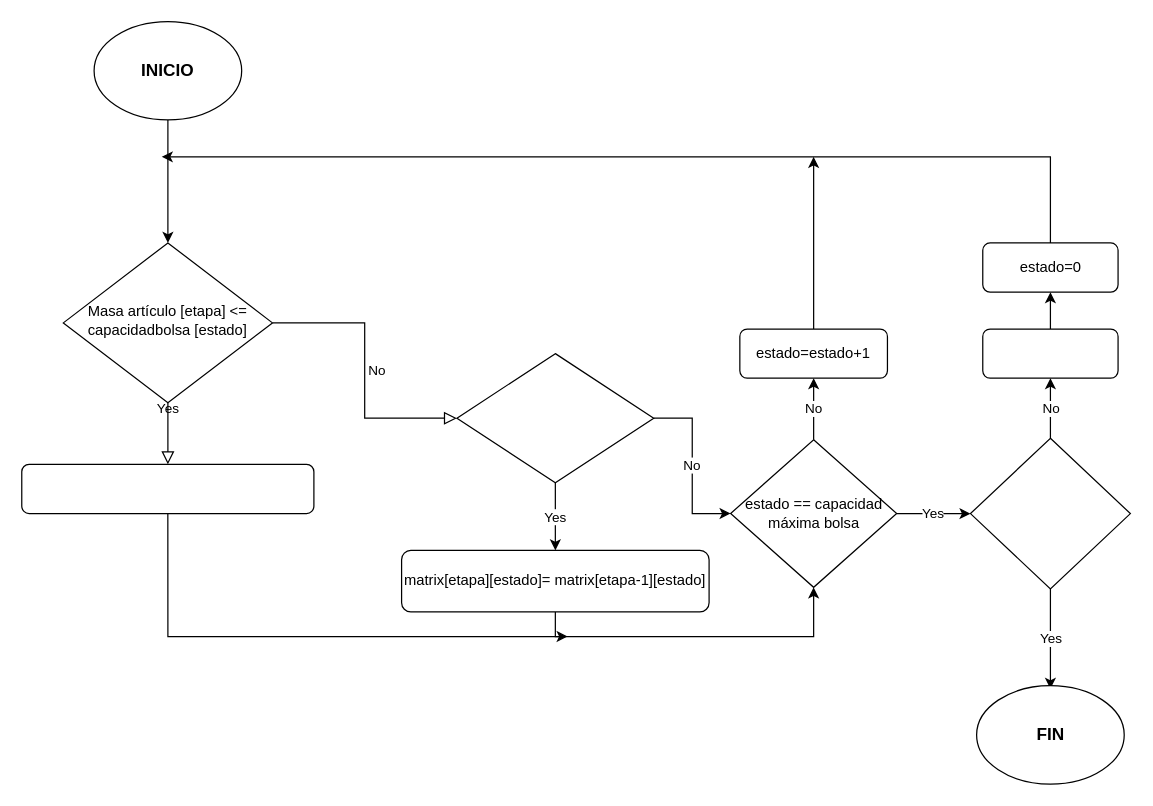
This 1153x806 diagram has some shape labels left out. The centre of each missing label's shape, as x and y in pixels:
etapa == número de objetos: [1049,513]
etapa=etapa+1: [1050,353]
matrix[etapa-1][estado] > matrix[etapa][estado]: [555,417]
matrix[etapa][estado]=Valor artículo[etapa]: [167,488]
